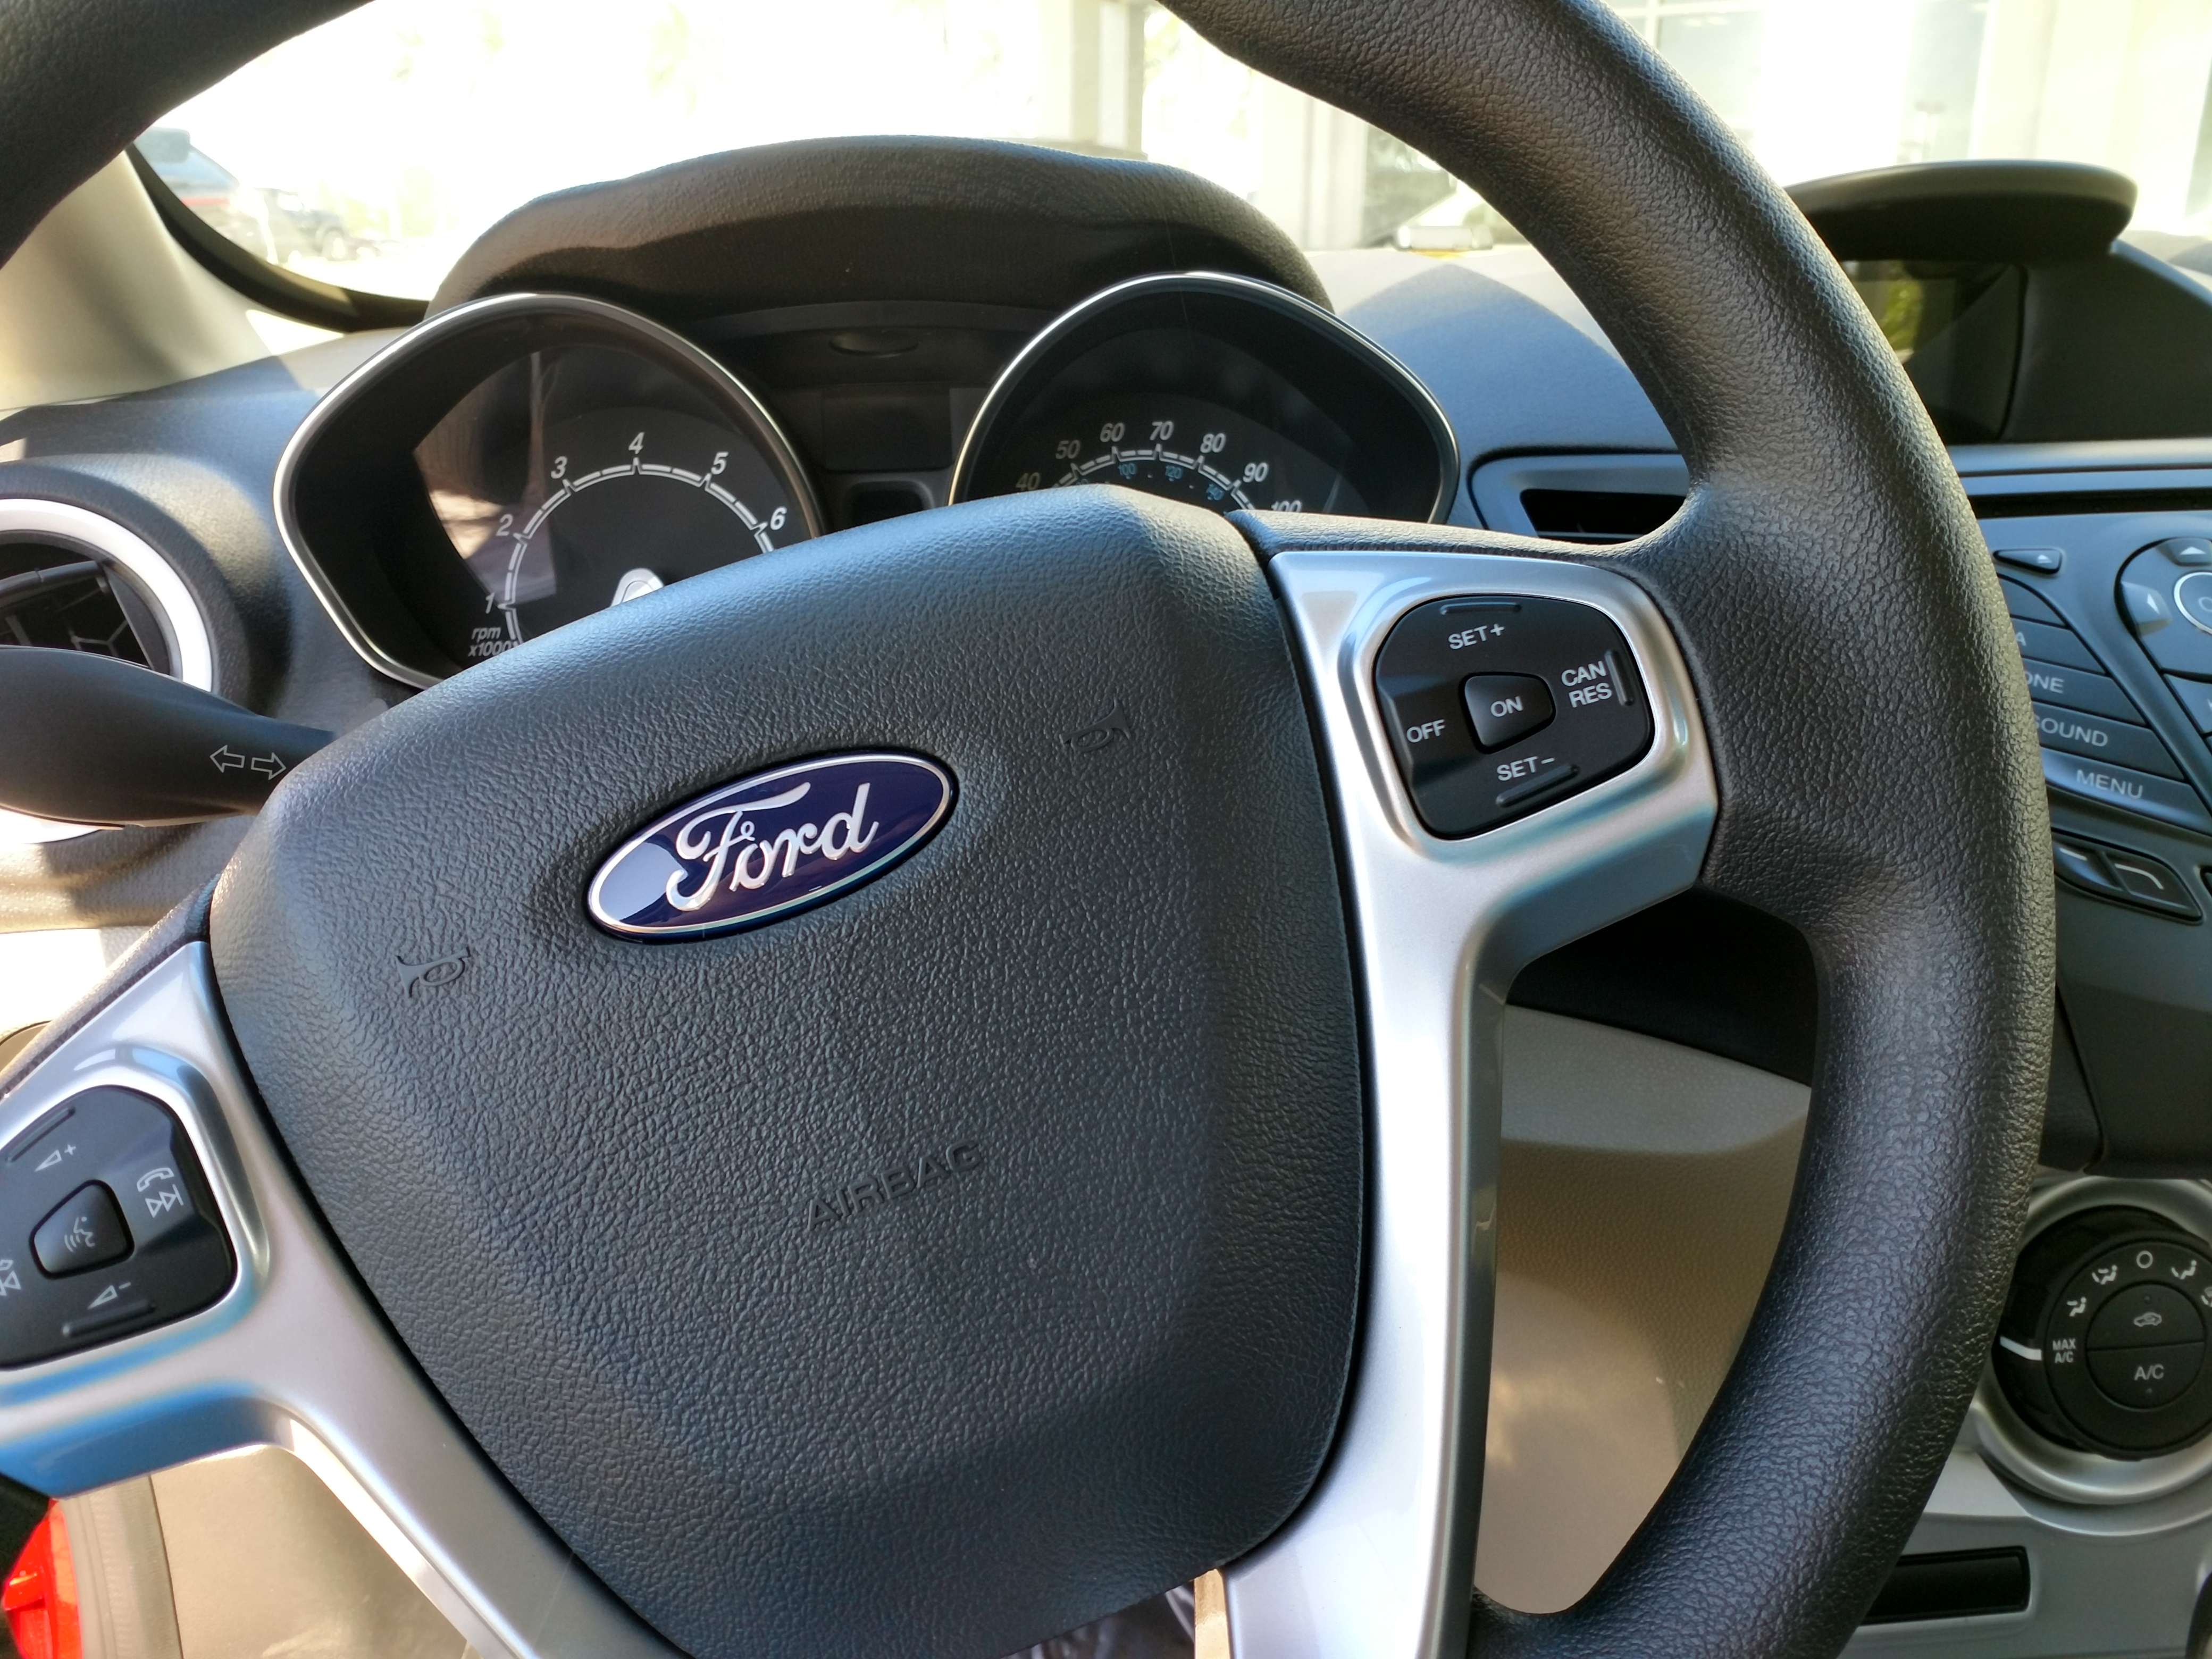Ford: (535, 730, 984, 953)
